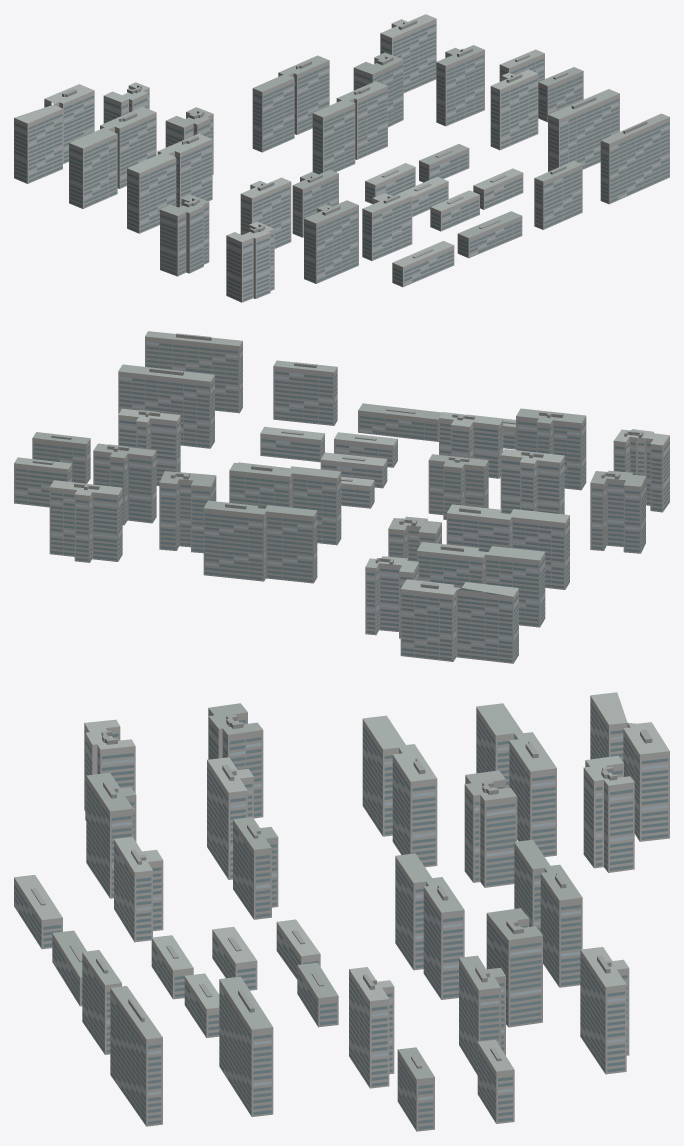
Rendered from apt-a13971502.glb.
3 views of the same model, one above another, from view 1: azimuth 30°, elevation 25°; view 2: azimuth 150°, elevation 25°; view 3: azimuth 270°, elevation 25° (orthographic). The views are drawn at different scales.
Visible parts, largest first — view 1: apt-a13971502; view 2: apt-a13971502; view 3: apt-a13971502.
Boxes of the visible parts, x1,y1,x2,y2 form: apt-a13971502: [14, 14, 669, 302]; apt-a13971502: [14, 331, 669, 663]; apt-a13971502: [14, 692, 669, 1131].
Bounding box in the file's own units: 396 × 47.81 × 311.
